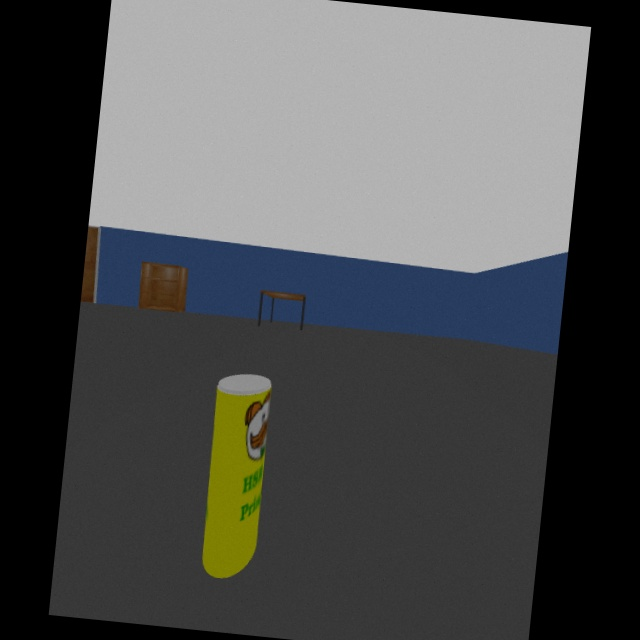chipsdose_gelb: (202, 373, 272, 580)
